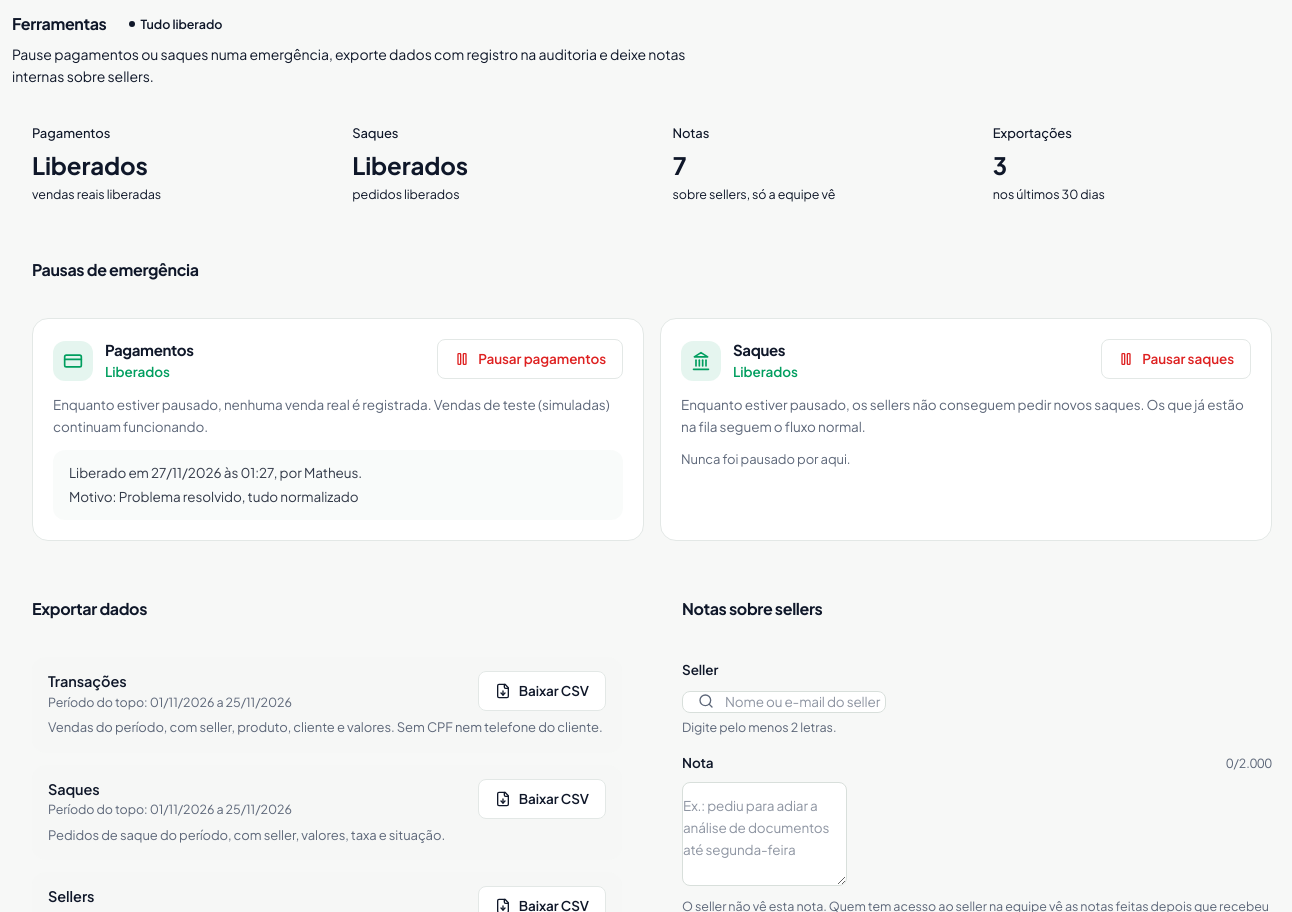
Test case: exportação de dados › recorte acima do limite por arquivo não baixa nada e diz o que fazer
Expected: the element "Pagamentos" is shown, [32,318,644,541]
Step 1. Click the button with aria-label "Baixar CSV de transações" → (542, 691), box [478,671,606,711]
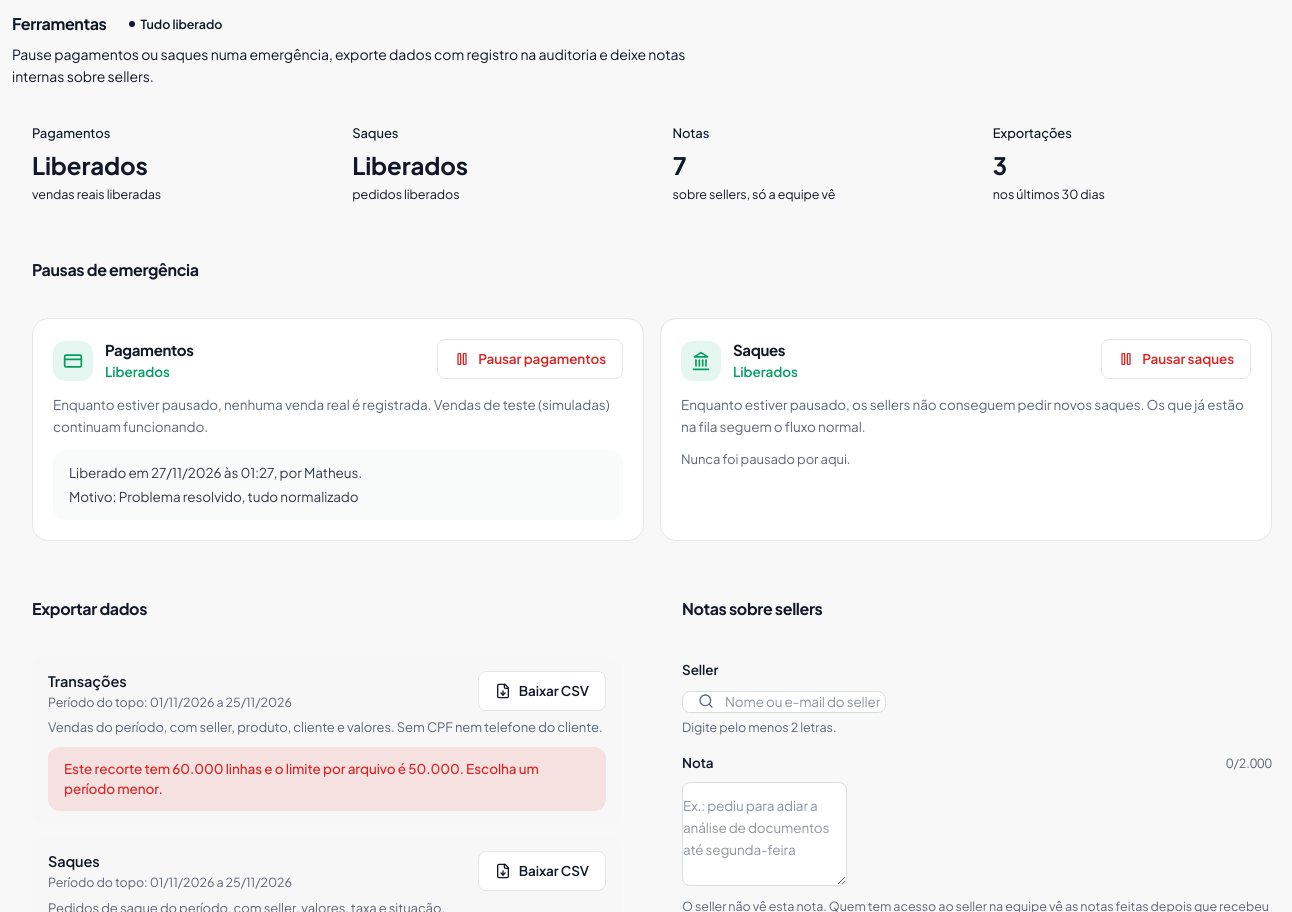
Expected: the message shows "60.000 linhas", [64,760,539,797]
Expected: the message shows "50.000", [64,760,539,797]
Expected: the message shows "Escolha um período menor", [64,760,539,797]
